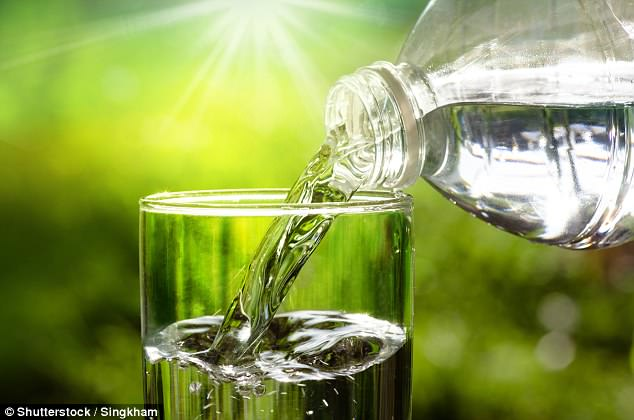glass of water: (304, 3, 634, 264), (133, 182, 425, 419)
